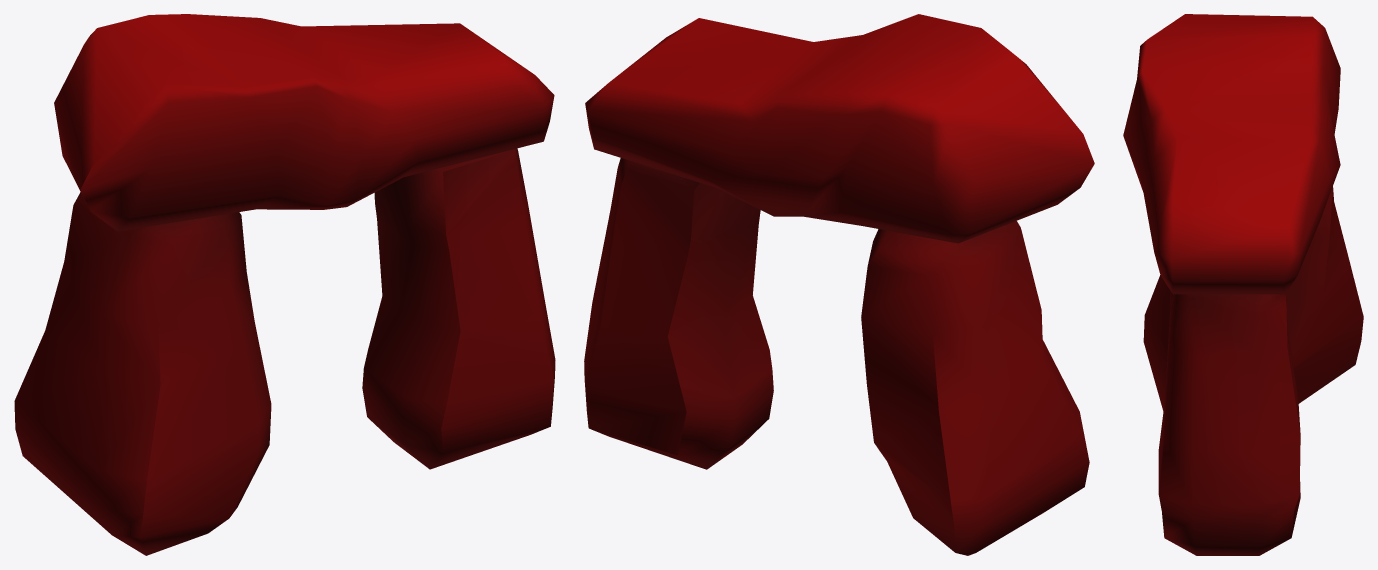
File: geology-carvedstone-dolmen_v2.fbx
3 views of the same model, side by side, from view 1: azimuth 30°, elevation 25°; view 2: azimuth 150°, elevation 25°; view 3: azimuth 270°, elevation 25° (orthographic). The views are drawn at different scales.
Parts seen in each view (by area): view 1: Dolmen_v2; view 2: Dolmen_v2; view 3: Dolmen_v2.
Boxes of the visible parts, x1,y1,x2,y2 form: Dolmen_v2: (14, 14, 555, 555); Dolmen_v2: (584, 14, 1094, 555); Dolmen_v2: (1123, 14, 1363, 555).
Bounding box in the file's own units: 9.8 × 9.07 × 4.94.
